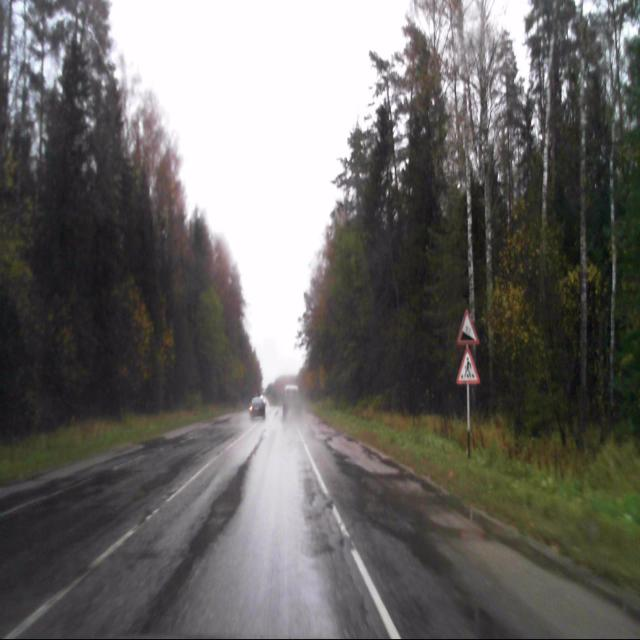road sign: (456, 347, 480, 385), (456, 308, 479, 345)
